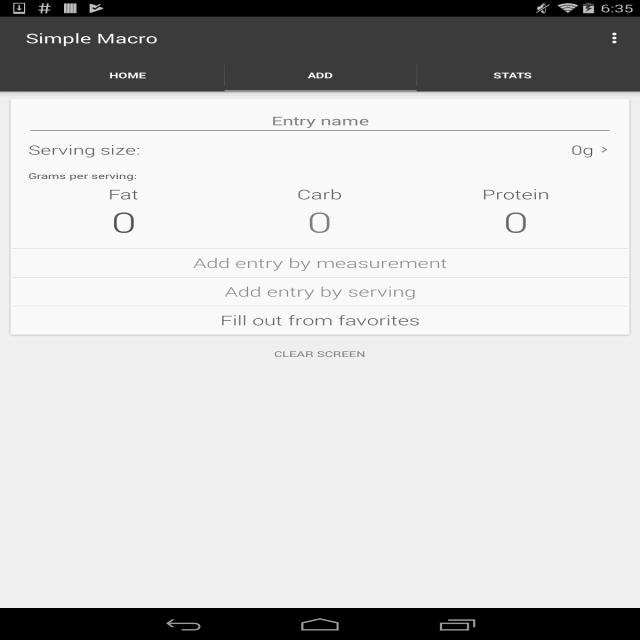Button: (11, 249, 629, 277), (11, 278, 629, 306), (11, 306, 629, 334), (261, 338, 378, 370)
EditText: (26, 106, 614, 136)
ImageView: (589, 22, 640, 54), (597, 145, 612, 154)
TextView: (31, 203, 218, 240), (226, 203, 413, 240), (422, 203, 609, 240), (25, 29, 158, 47), (28, 142, 141, 158), (28, 170, 138, 182), (482, 185, 549, 203), (297, 185, 342, 203), (108, 185, 139, 203), (493, 70, 532, 80), (109, 70, 146, 80), (308, 70, 333, 80), (582, 142, 594, 158), (572, 142, 582, 158)
